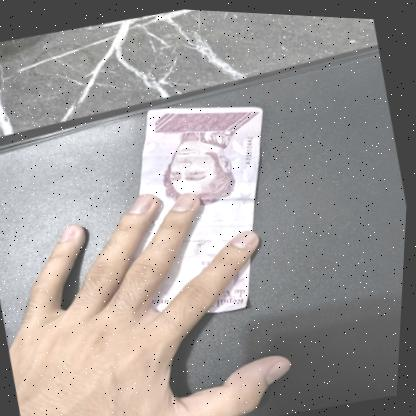one_hundred-front-vef: (92, 79, 307, 333)
